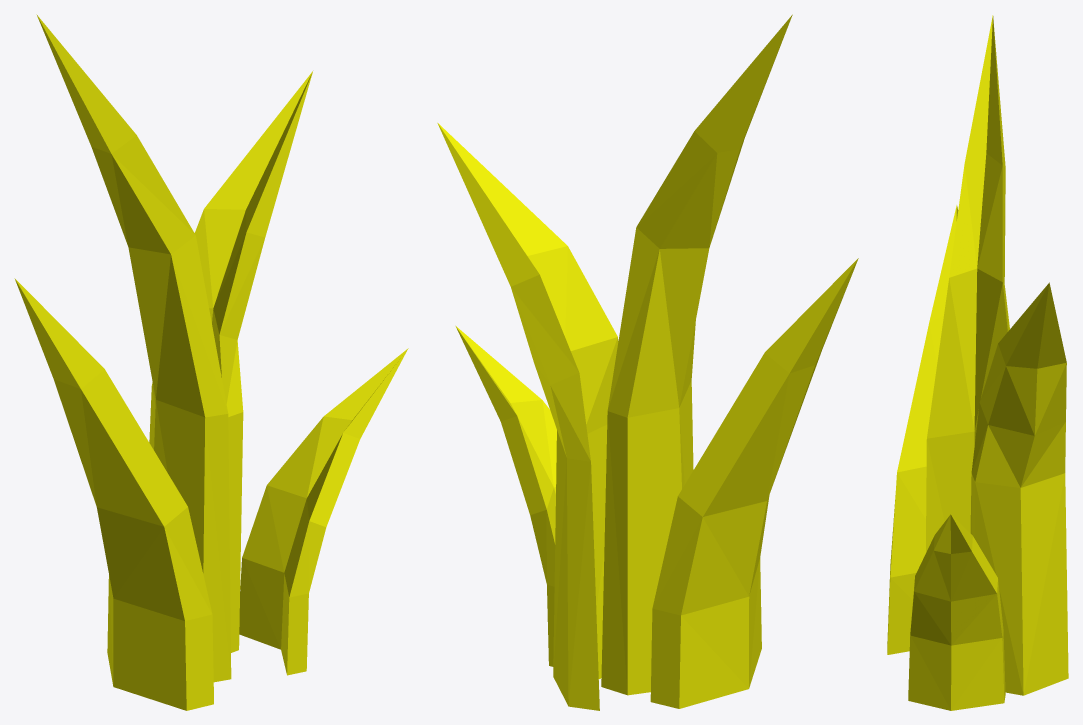
The model's file is _grass_2.glb.
The picture shows the model from 3 angles, left to right: view 1: azimuth 30°, elevation 25°; view 2: azimuth 150°, elevation 25°; view 3: azimuth 270°, elevation 25°; orthographic projection. The views are drawn at different scales.
Parts seen in each view (by area): view 1: grass_2; view 2: grass_2; view 3: grass_2.
Part boxes in pixels (x1,y1,x2,y2): grass_2: (14,14,408,710); grass_2: (437,14,858,710); grass_2: (887,15,1068,710).
Bounding box in the file's own units: 0.6431 × 1.06 × 0.2948.
Materials: 1 (1 with a texture image).
